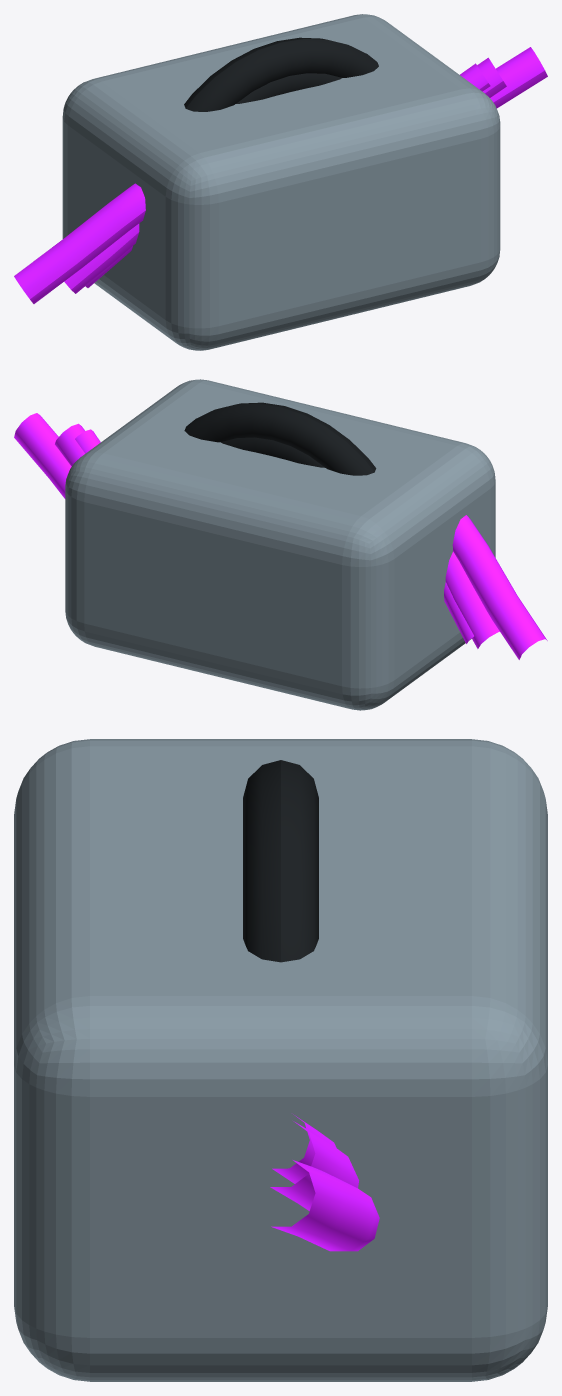
File: electrical_28.glb
3 views of the same model, one above another, from view 1: azimuth 30°, elevation 25°; view 2: azimuth 150°, elevation 25°; view 3: azimuth 270°, elevation 25° (orthographic). The views are drawn at different scales.
Parts seen in each view (by area): view 1: asset_mesh__electrical_1340__reference_body, asset_mesh__electrical_1358__current_path, asset_mesh__electrical_1366__service_element, asset_mesh__electrical_1355__current_path, asset_mesh__electrical_1345__service_element, asset_mesh__electrical_1336__current_path; view 2: asset_mesh__electrical_1340__reference_body, asset_mesh__electrical_1358__current_path, asset_mesh__electrical_1366__service_element, asset_mesh__electrical_1355__current_path, asset_mesh__electrical_1345__service_element, asset_mesh__electrical_1336__current_path; view 3: asset_mesh__electrical_1340__reference_body, asset_mesh__electrical_1366__service_element, asset_mesh__electrical_1358__current_path, asset_mesh__electrical_1355__current_path, asset_mesh__electrical_1336__current_path.
Part boxes in pixels (left/top/right/bottom): asset_mesh__electrical_1340__reference_body: left=62, top=14, right=500, bottom=350; asset_mesh__electrical_1358__current_path: left=14, top=47, right=547, bottom=303; asset_mesh__electrical_1366__service_element: left=184, top=37, right=378, bottom=111; asset_mesh__electrical_1355__current_path: left=64, top=57, right=506, bottom=293; asset_mesh__electrical_1345__service_element: left=236, top=73, right=341, bottom=103; asset_mesh__electrical_1336__current_path: left=85, top=63, right=490, bottom=287; asset_mesh__electrical_1340__reference_body: left=65, top=379, right=495, bottom=710; asset_mesh__electrical_1358__current_path: left=14, top=413, right=547, bottom=659; asset_mesh__electrical_1366__service_element: left=184, top=402, right=376, bottom=475; asset_mesh__electrical_1355__current_path: left=55, top=423, right=499, bottom=648; asset_mesh__electrical_1345__service_element: left=220, top=437, right=325, bottom=467; asset_mesh__electrical_1336__current_path: left=75, top=429, right=473, bottom=643; asset_mesh__electrical_1340__reference_body: left=14, top=739, right=547, bottom=1381; asset_mesh__electrical_1366__service_element: left=243, top=760, right=318, bottom=962; asset_mesh__electrical_1358__current_path: left=271, top=1160, right=379, bottom=1251; asset_mesh__electrical_1355__current_path: left=270, top=1121, right=358, bottom=1210; asset_mesh__electrical_1336__current_path: left=272, top=1114, right=336, bottom=1183.
Bounding box in the file's own units: 1.73 × 0.8732 × 0.7728.
